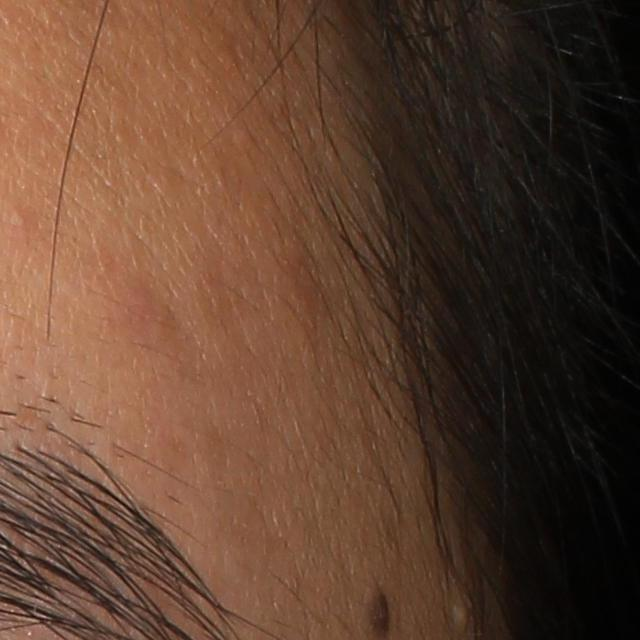comedo: (10, 208, 31, 232)
nevus: (363, 588, 394, 636)
